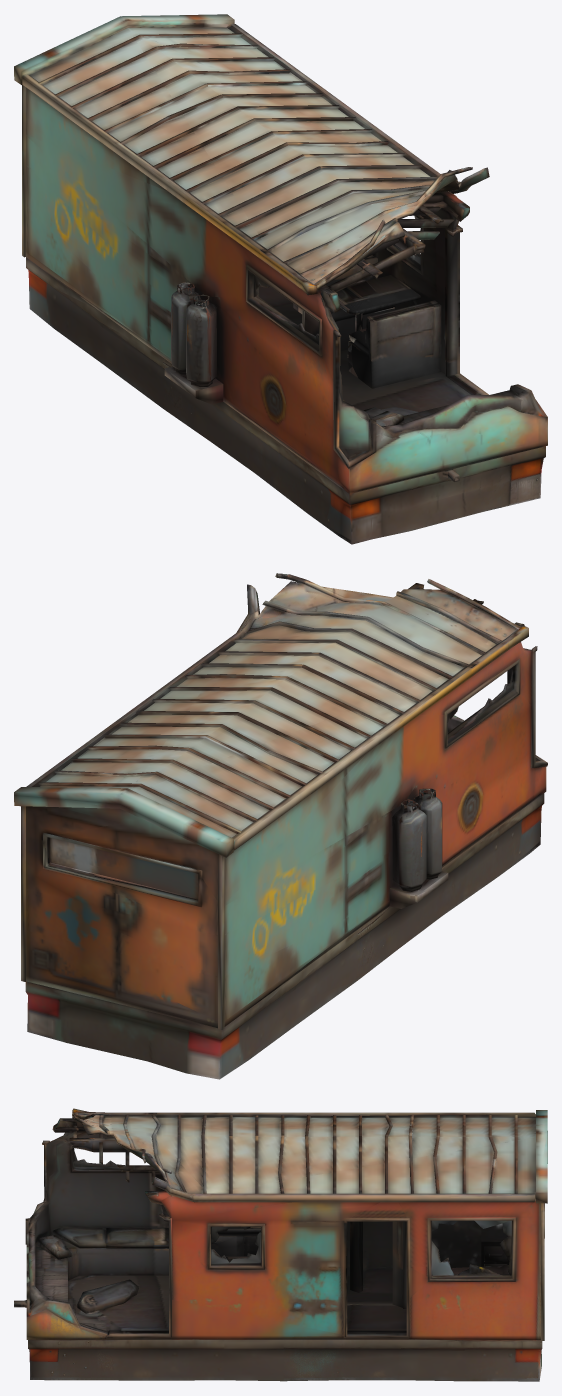
The model's file is trailer_2.fbx.
3 views of the same model, one above another, from view 1: azimuth 30°, elevation 25°; view 2: azimuth 150°, elevation 25°; view 3: azimuth 270°, elevation 25° (orthographic). The views are drawn at different scales.
Parts seen in each view (by area): view 1: input; view 2: input; view 3: input.
Boxes of the visible parts, x1,y1,x2,y2 form: input: [14, 14, 547, 544]; input: [14, 573, 547, 1079]; input: [14, 1108, 547, 1381].
Bounding box in the file's own units: 85.24 × 91.48 × 200.
Materials: 1 (1 with a texture image).
